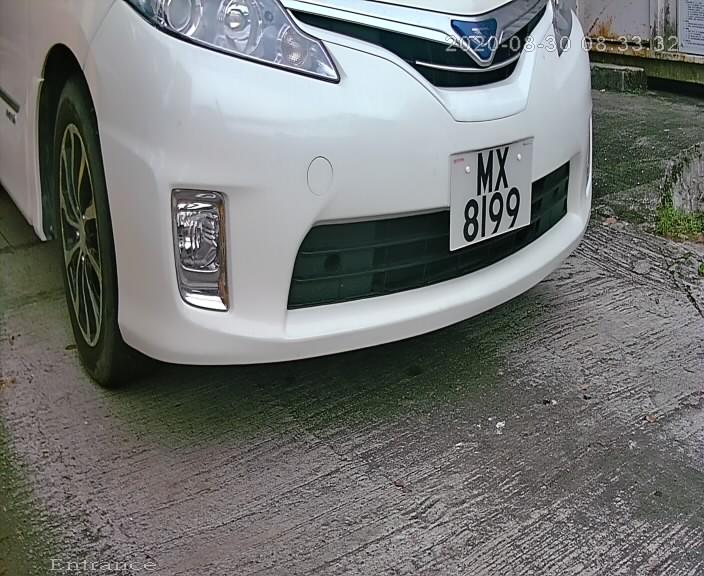License Plate: (444, 132, 538, 255)
